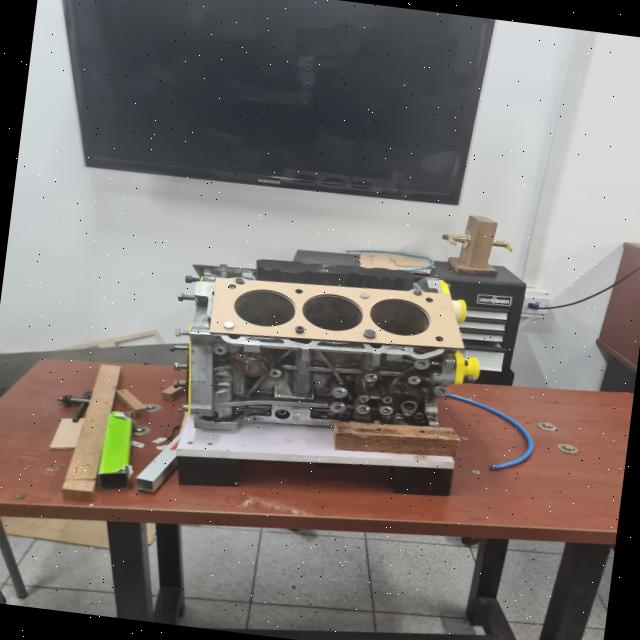tor_v1: (209, 277, 463, 348)
